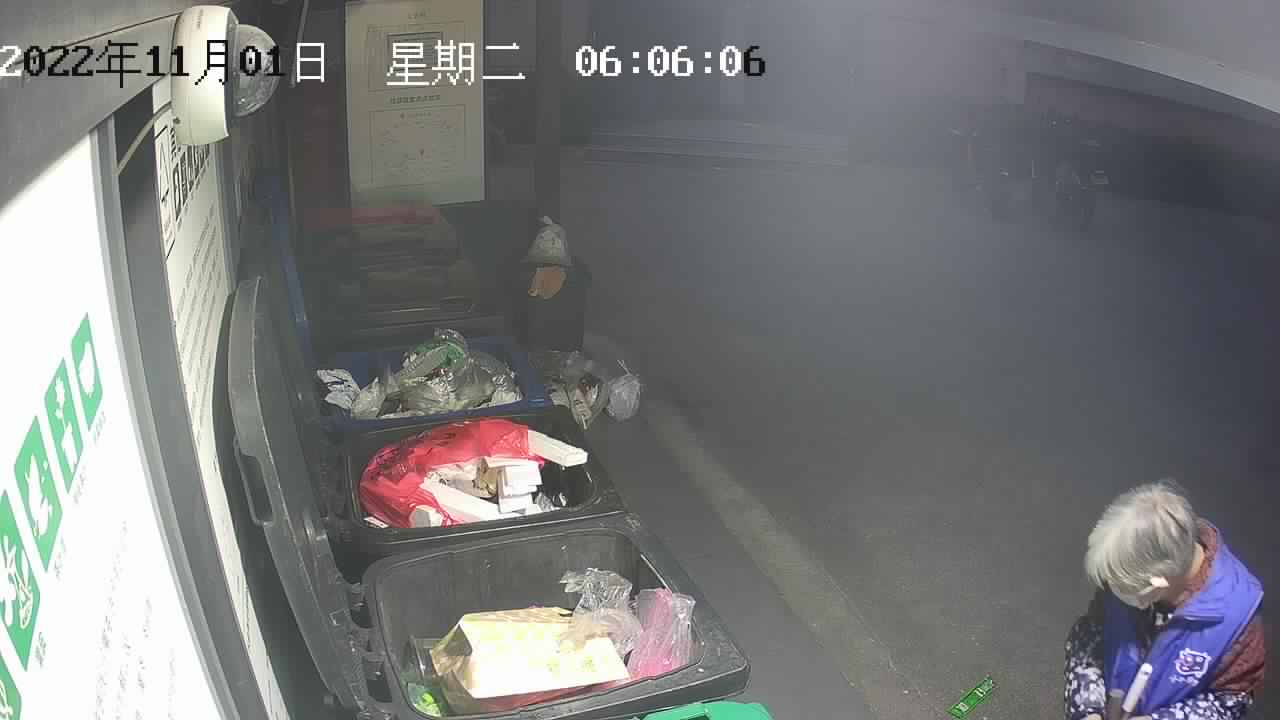garbage: (533, 347, 610, 430)
garbage-bag: (604, 357, 646, 426)
worker: (1061, 476, 1269, 720)
